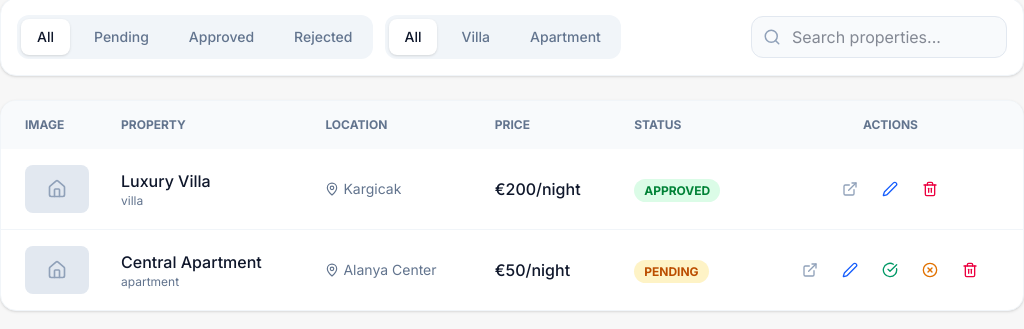
Test: PropertiesPage › status filter works — shows only approved properties
Expected: the text "Central Apartment" is shown, [121, 252, 262, 272]
Click the button "Approved": (221, 37) [173, 19, 270, 55]
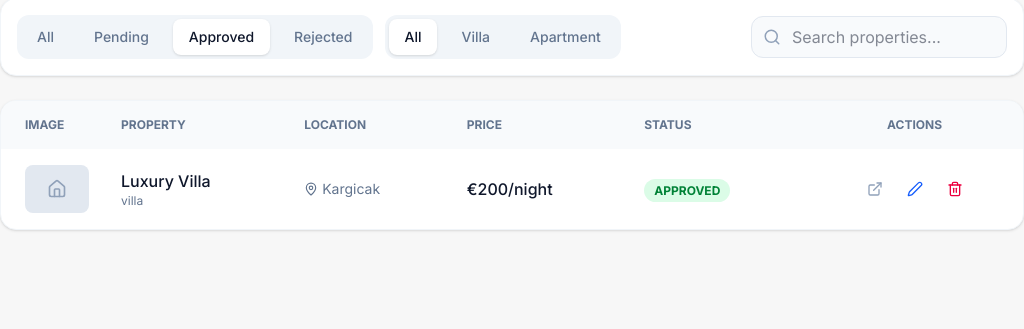
Expected: the text "Luxury Villa" is shown, [121, 171, 211, 191]
Now the text "Central Apartment" is gone
